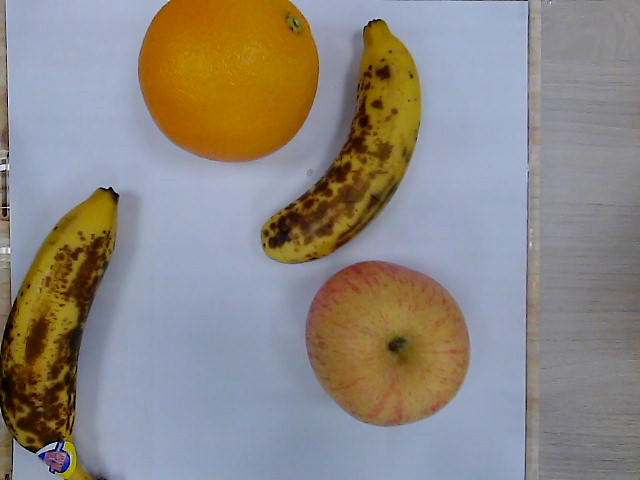fresh_apple: (306, 263, 472, 427)
fresh_orange: (138, 1, 322, 163)
rotten_banana: (258, 22, 420, 263), (1, 190, 119, 480)
